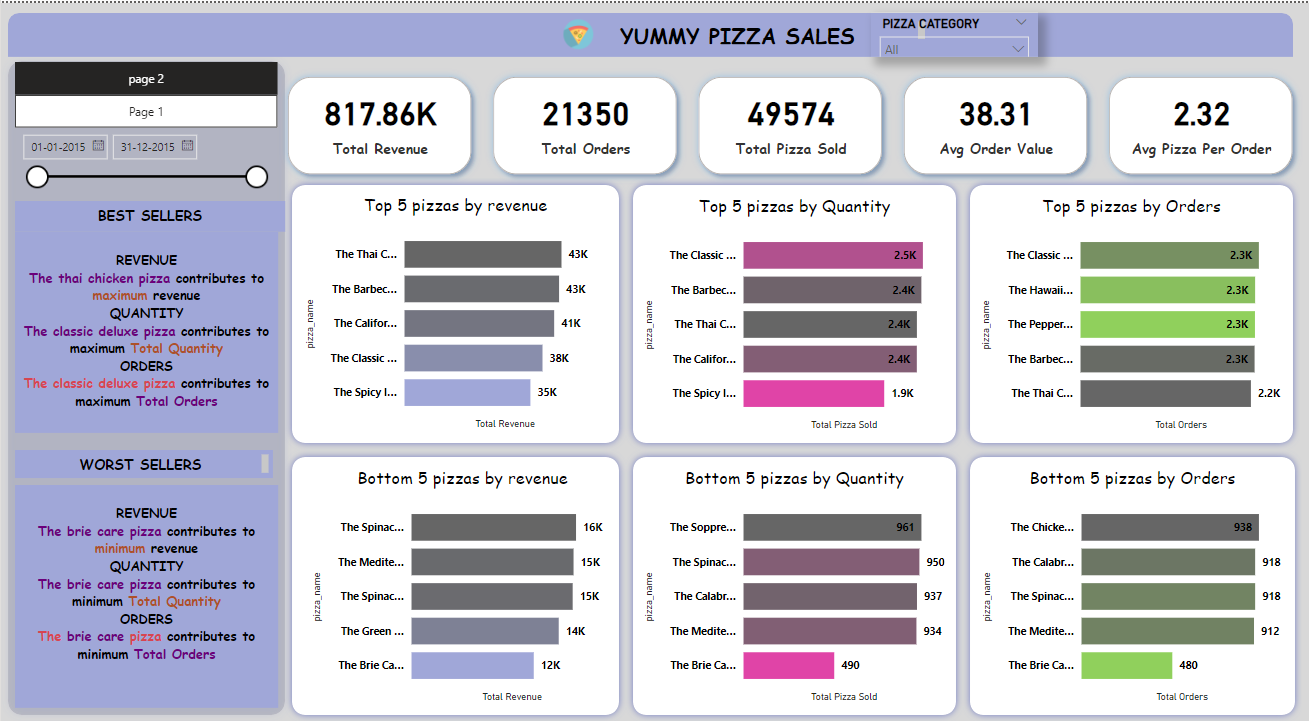

What the dashboard file says about the page in this screenshot:
{"tool":"powerbi","page":{"name":"page 2","canvas":[1500,820],"ordinal":1},"visuals":[{"type":"shape","box":[0,58.1,331.7,761.4],"z":0},{"type":"cardVisual","fields":{"Data":["pizza pizza_sales.Total Revenue","pizza pizza_sales.Total Orders","pizza pizza_sales.Total Pizza Sold","pizza pizza_sales.Avg Order Value","pizza pizza_sales.Avg Pizza Per Order"]},"box":[310,67.2,1180.9,145.9],"z":1000},{"type":"shape","box":[8,11.4,1464.7,50.2],"z":2000},{"type":"textbox","box":[629.2,16,428.6,36.5],"z":3000},{"type":"image","box":[604.1,13.7,108.3,44.5],"z":4000},{"type":"shape","box":[323.7,199.5,388.7,310],"z":5000},{"type":"shape","box":[712.4,199.5,384.1,310],"z":6000},{"type":"textbox","box":[16,225.7,307.8,35.3],"z":7000},{"type":"shape","box":[323.7,509.5,388.7,310],"z":8000},{"type":"shape","box":[712.4,509.5,384.1,310],"z":9000},{"type":"shape","box":[1096.5,509.5,386.4,310],"z":10000},{"type":"textbox","box":[16,261,299.8,229.1],"z":11000},{"type":"textbox","box":[16,549.4,299.8,254.2],"z":12000},{"type":"textbox","box":[16,509.5,294.1,31.9],"z":13000},{"type":"slicer","fields":{"Values":["pizza pizza_sales.pizza_category"]},"box":[991.6,10.3,190.3,51.3],"z":14000},{"type":"slicer","fields":{"Values":["pizza pizza_sales.order_date"]},"box":[12.5,140.2,299.8,72.9],"z":15000},{"type":"shape","box":[1096.5,199.5,384.1,310],"z":16000},{"type":"barChart","title":"Top 5 pizzas by revenue","fields":{"Y":["pizza pizza_sales.Total Revenue"],"Category":["pizza pizza_sales.pizza_name"]},"box":[341.9,216.6,352.2,273.6],"z":17000},{"type":"barChart","title":"Bottom 5 pizzas by revenue","fields":{"Y":["pizza pizza_sales.Total Revenue"],"Category":["pizza pizza_sales.pizza_name"]},"box":[349.9,527.7,352.2,273.6],"z":18000},{"type":"barChart","title":"Top 5 pizzas by Quantity","fields":{"Category":["pizza pizza_sales.pizza_name"],"Y":["pizza pizza_sales.Total Pizza Sold"]},"box":[728.3,217.7,352.2,273.6],"z":19000},{"type":"barChart","title":"Bottom 5 pizzas by Quantity","fields":{"Category":["pizza pizza_sales.pizza_name"],"Y":["pizza pizza_sales.Total Pizza Sold"]},"box":[728.3,527.7,352.2,273.6],"z":19001},{"type":"barChart","title":"Top 5 pizzas by Orders","fields":{"Category":["pizza pizza_sales.pizza_name"],"Y":["pizza pizza_sales.Total Orders"]},"box":[1112.5,217.7,352.2,273.6],"z":19002},{"type":"barChart","title":"Bottom 5 pizzas by Orders","fields":{"Category":["pizza pizza_sales.pizza_name"],"Y":["pizza pizza_sales.Total Orders"]},"box":[1113.6,527.7,352.2,273.6],"z":19003},{"type":"pageNavigator","box":[16,67.2,299.8,37.6],"z":19004},{"type":"pageNavigator","box":[16,104.9,299.8,37.6],"z":19005}]}

Visuals, with their boxes in screenshot pixels (x1, y1, x2, y2), scaled from the page's 1500x820 canvas onto the 1309x721 screenshot:
shape: (x1=0, y1=51, x2=289, y2=720)
cardVisual - pizza pizza_sales.Total Revenue x pizza pizza_sales.Total Orders: (x1=271, y1=59, x2=1301, y2=187)
shape: (x1=7, y1=10, x2=1285, y2=54)
textbox: (x1=549, y1=14, x2=923, y2=46)
image: (x1=527, y1=12, x2=622, y2=51)
shape: (x1=282, y1=175, x2=622, y2=448)
shape: (x1=622, y1=175, x2=957, y2=448)
textbox: (x1=14, y1=198, x2=283, y2=229)
shape: (x1=282, y1=448, x2=622, y2=720)
shape: (x1=622, y1=448, x2=957, y2=720)
shape: (x1=957, y1=448, x2=1294, y2=720)
textbox: (x1=14, y1=229, x2=276, y2=431)
textbox: (x1=14, y1=483, x2=276, y2=707)
textbox: (x1=14, y1=448, x2=271, y2=476)
slicer - pizza pizza_sales.pizza_category: (x1=865, y1=9, x2=1031, y2=54)
slicer - pizza pizza_sales.order_date: (x1=11, y1=123, x2=273, y2=187)
shape: (x1=957, y1=175, x2=1292, y2=448)
"Top 5 pizzas by revenue" barChart: (x1=298, y1=190, x2=606, y2=431)
"Bottom 5 pizzas by revenue" barChart: (x1=305, y1=464, x2=613, y2=705)
"Top 5 pizzas by Quantity" barChart: (x1=636, y1=191, x2=943, y2=432)
"Bottom 5 pizzas by Quantity" barChart: (x1=636, y1=464, x2=943, y2=705)
"Top 5 pizzas by Orders" barChart: (x1=971, y1=191, x2=1278, y2=432)
"Bottom 5 pizzas by Orders" barChart: (x1=972, y1=464, x2=1279, y2=705)
pageNavigator: (x1=14, y1=59, x2=276, y2=92)
pageNavigator: (x1=14, y1=92, x2=276, y2=125)
